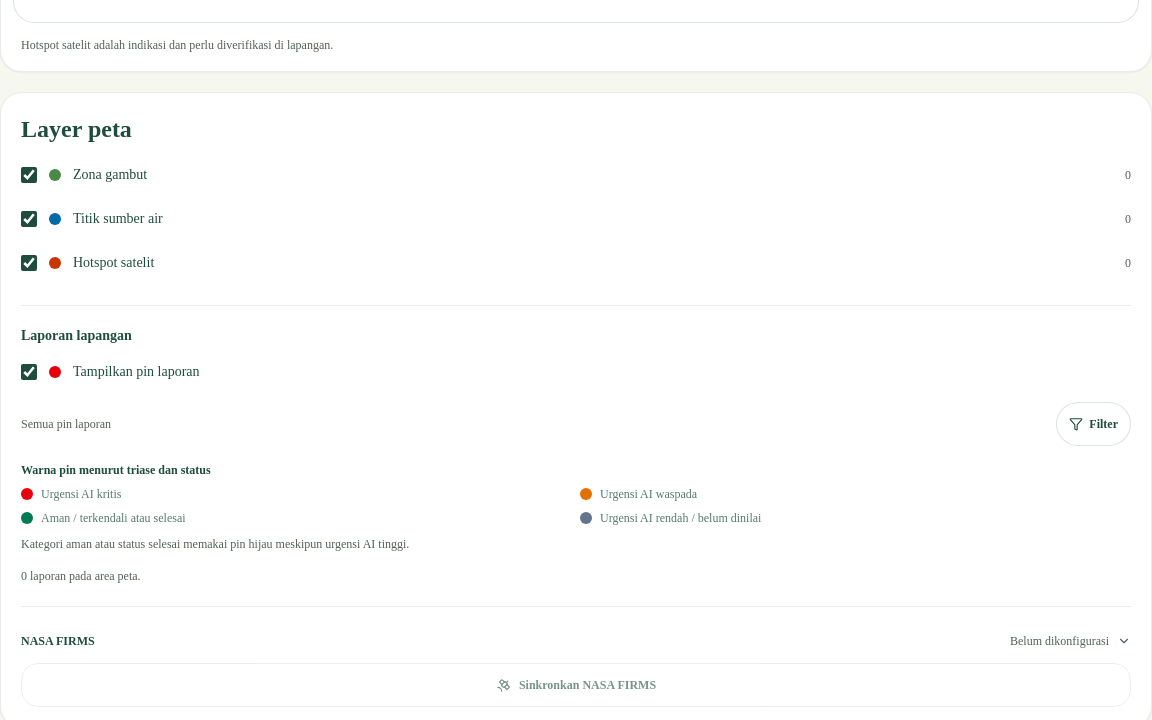
Scenario: keeps pins on unchanged apply and discards cancelled filter changes
This screenshot has width=1152, height=720.
(page scrolled)
Expected: the text "0 laporan pada area peta." is shown, [21,569,141,583]
Click the button "Filter" at (1094, 424), box [1056,402,1131,446]
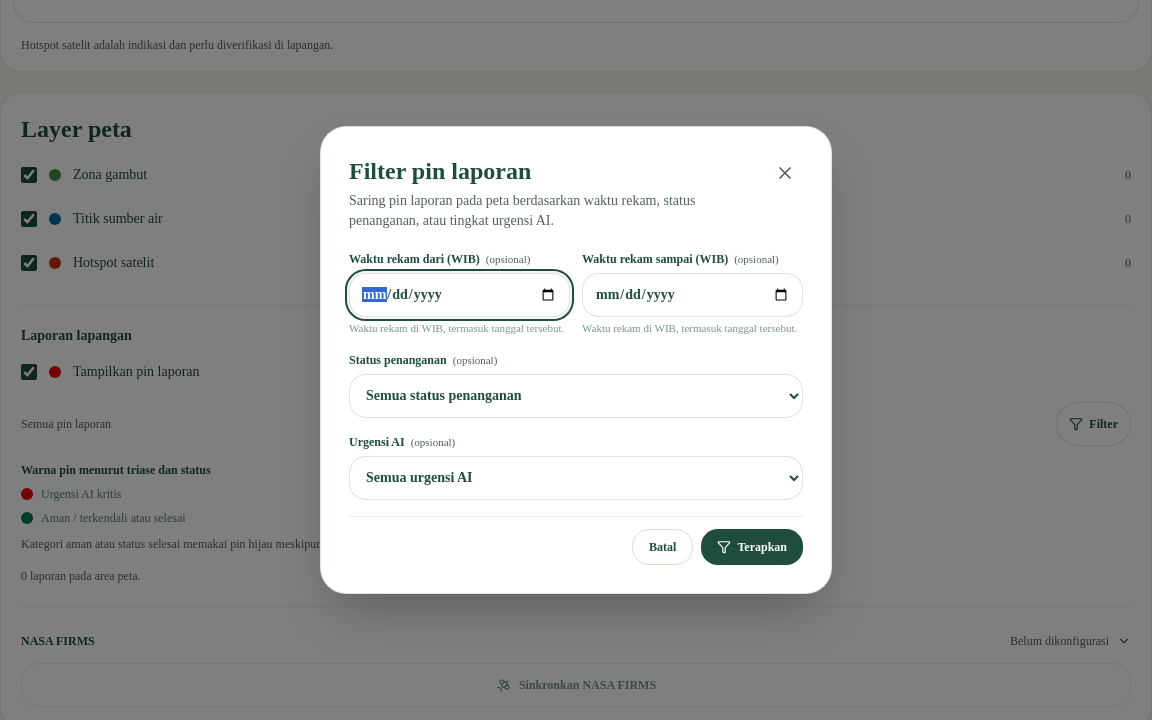
Click the button "Terapkan" at (752, 547), box [701,529,803,565]
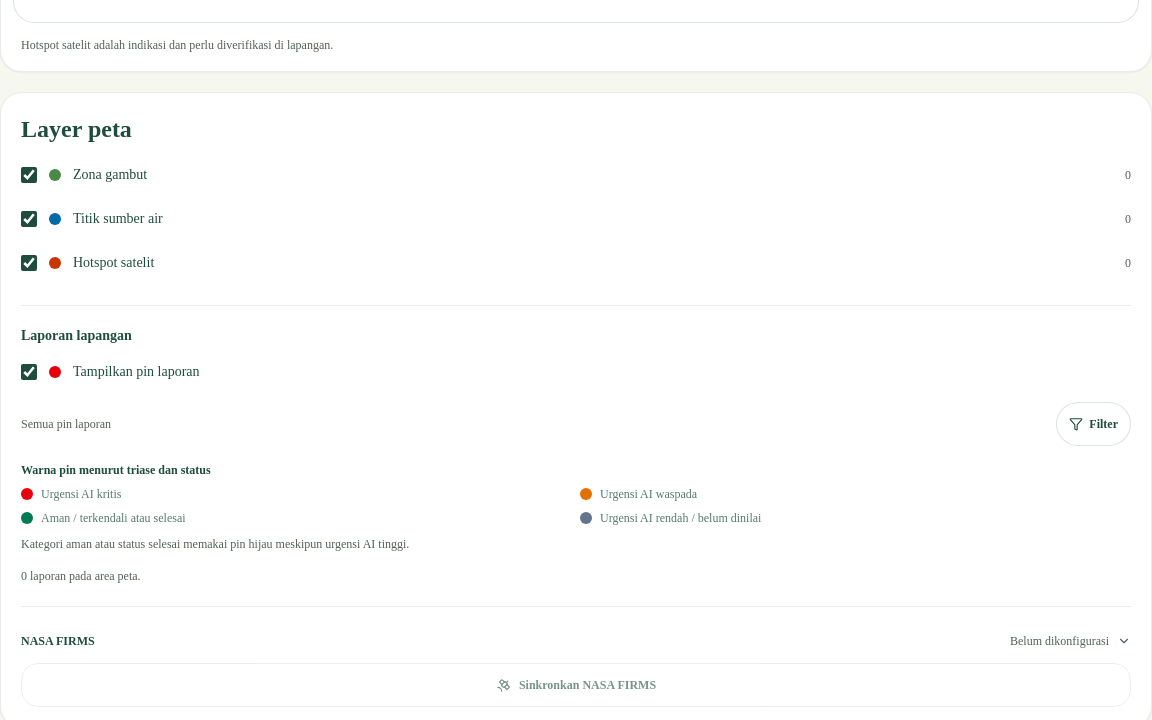
Expected: the text "0 laporan pada area peta." is shown, [21,569,141,583]
Click the button "Filter" at (1094, 424), box [1056,402,1131,446]
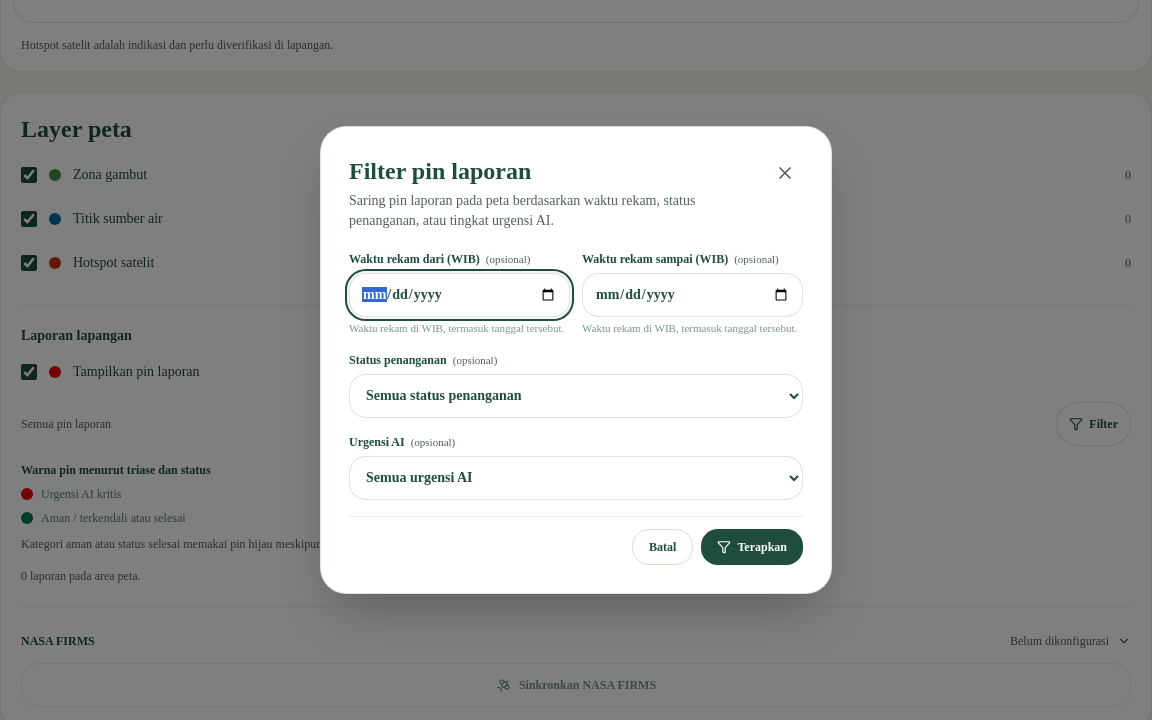
Select "MENUNGGU_TINDAKAN" in the dropdown labelled "Status penanganan (opsional)" at (576, 396), box [349,374,803,418]
Click the button "Batal" at (663, 547), box [632,529,693,565]
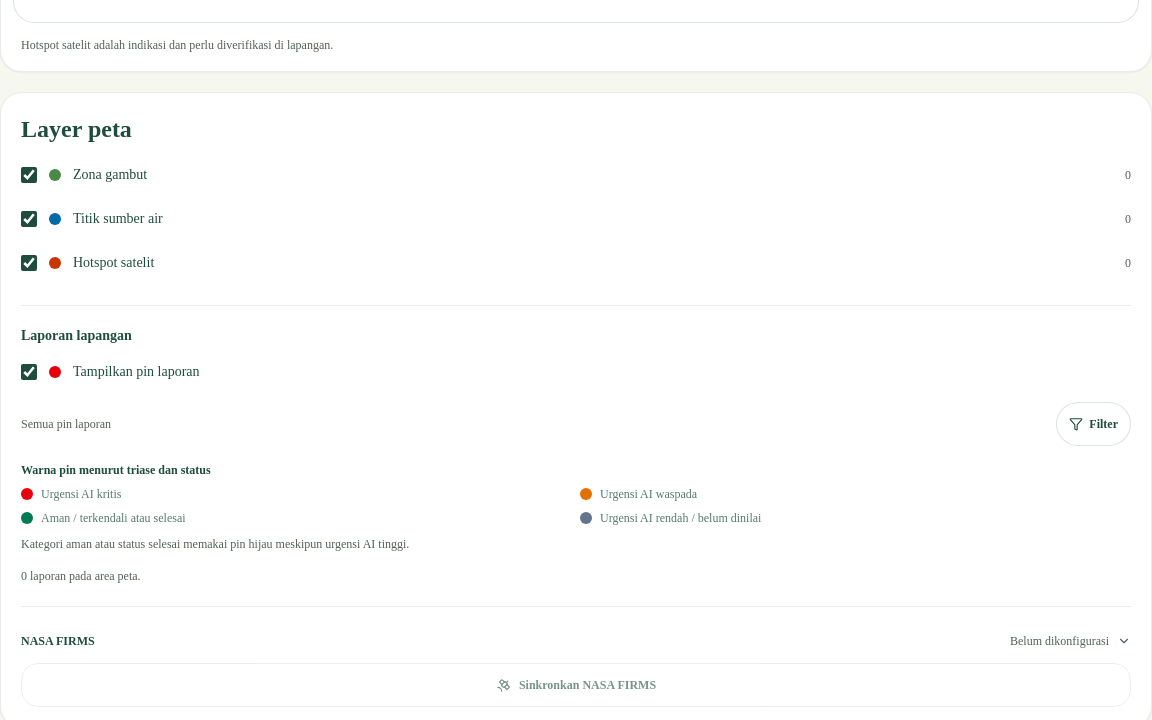
Expected: the text "Semua pin laporan" is shown, [21,416,111,432]
Click the button "Filter" at (1094, 424), box [1056,402,1131,446]
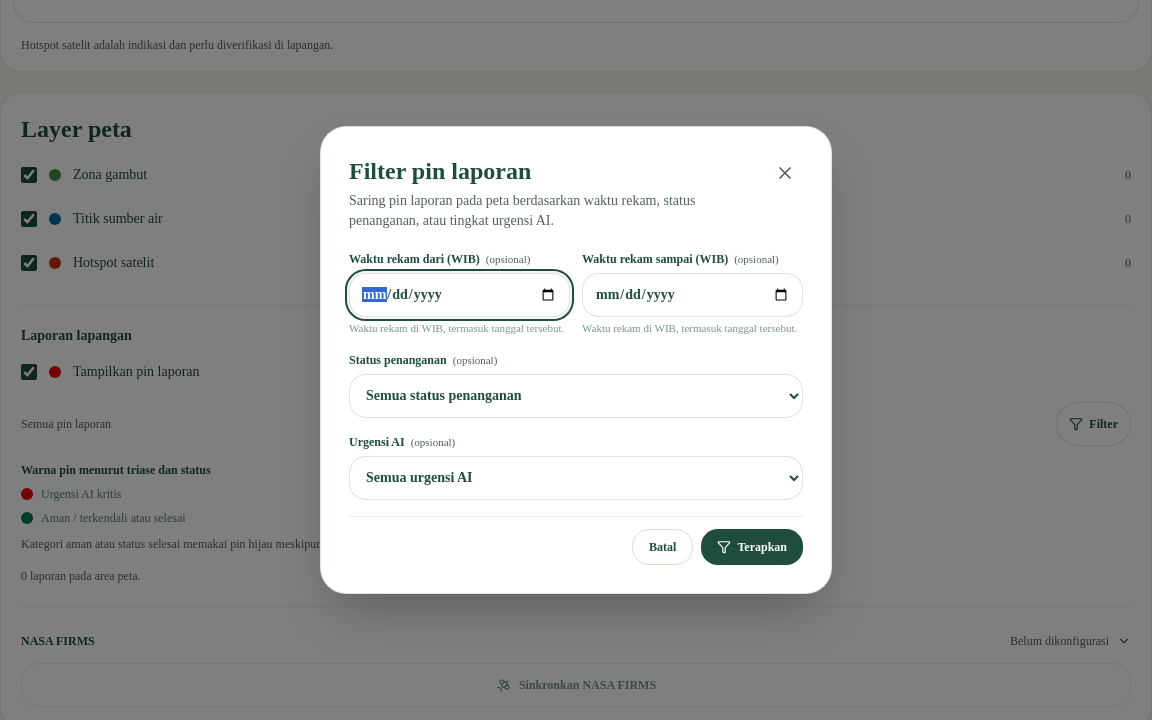
Expected: the dropdown labelled "Status penanganan (opsional)" shows "Semua status penanganan", [349,374,803,418]
